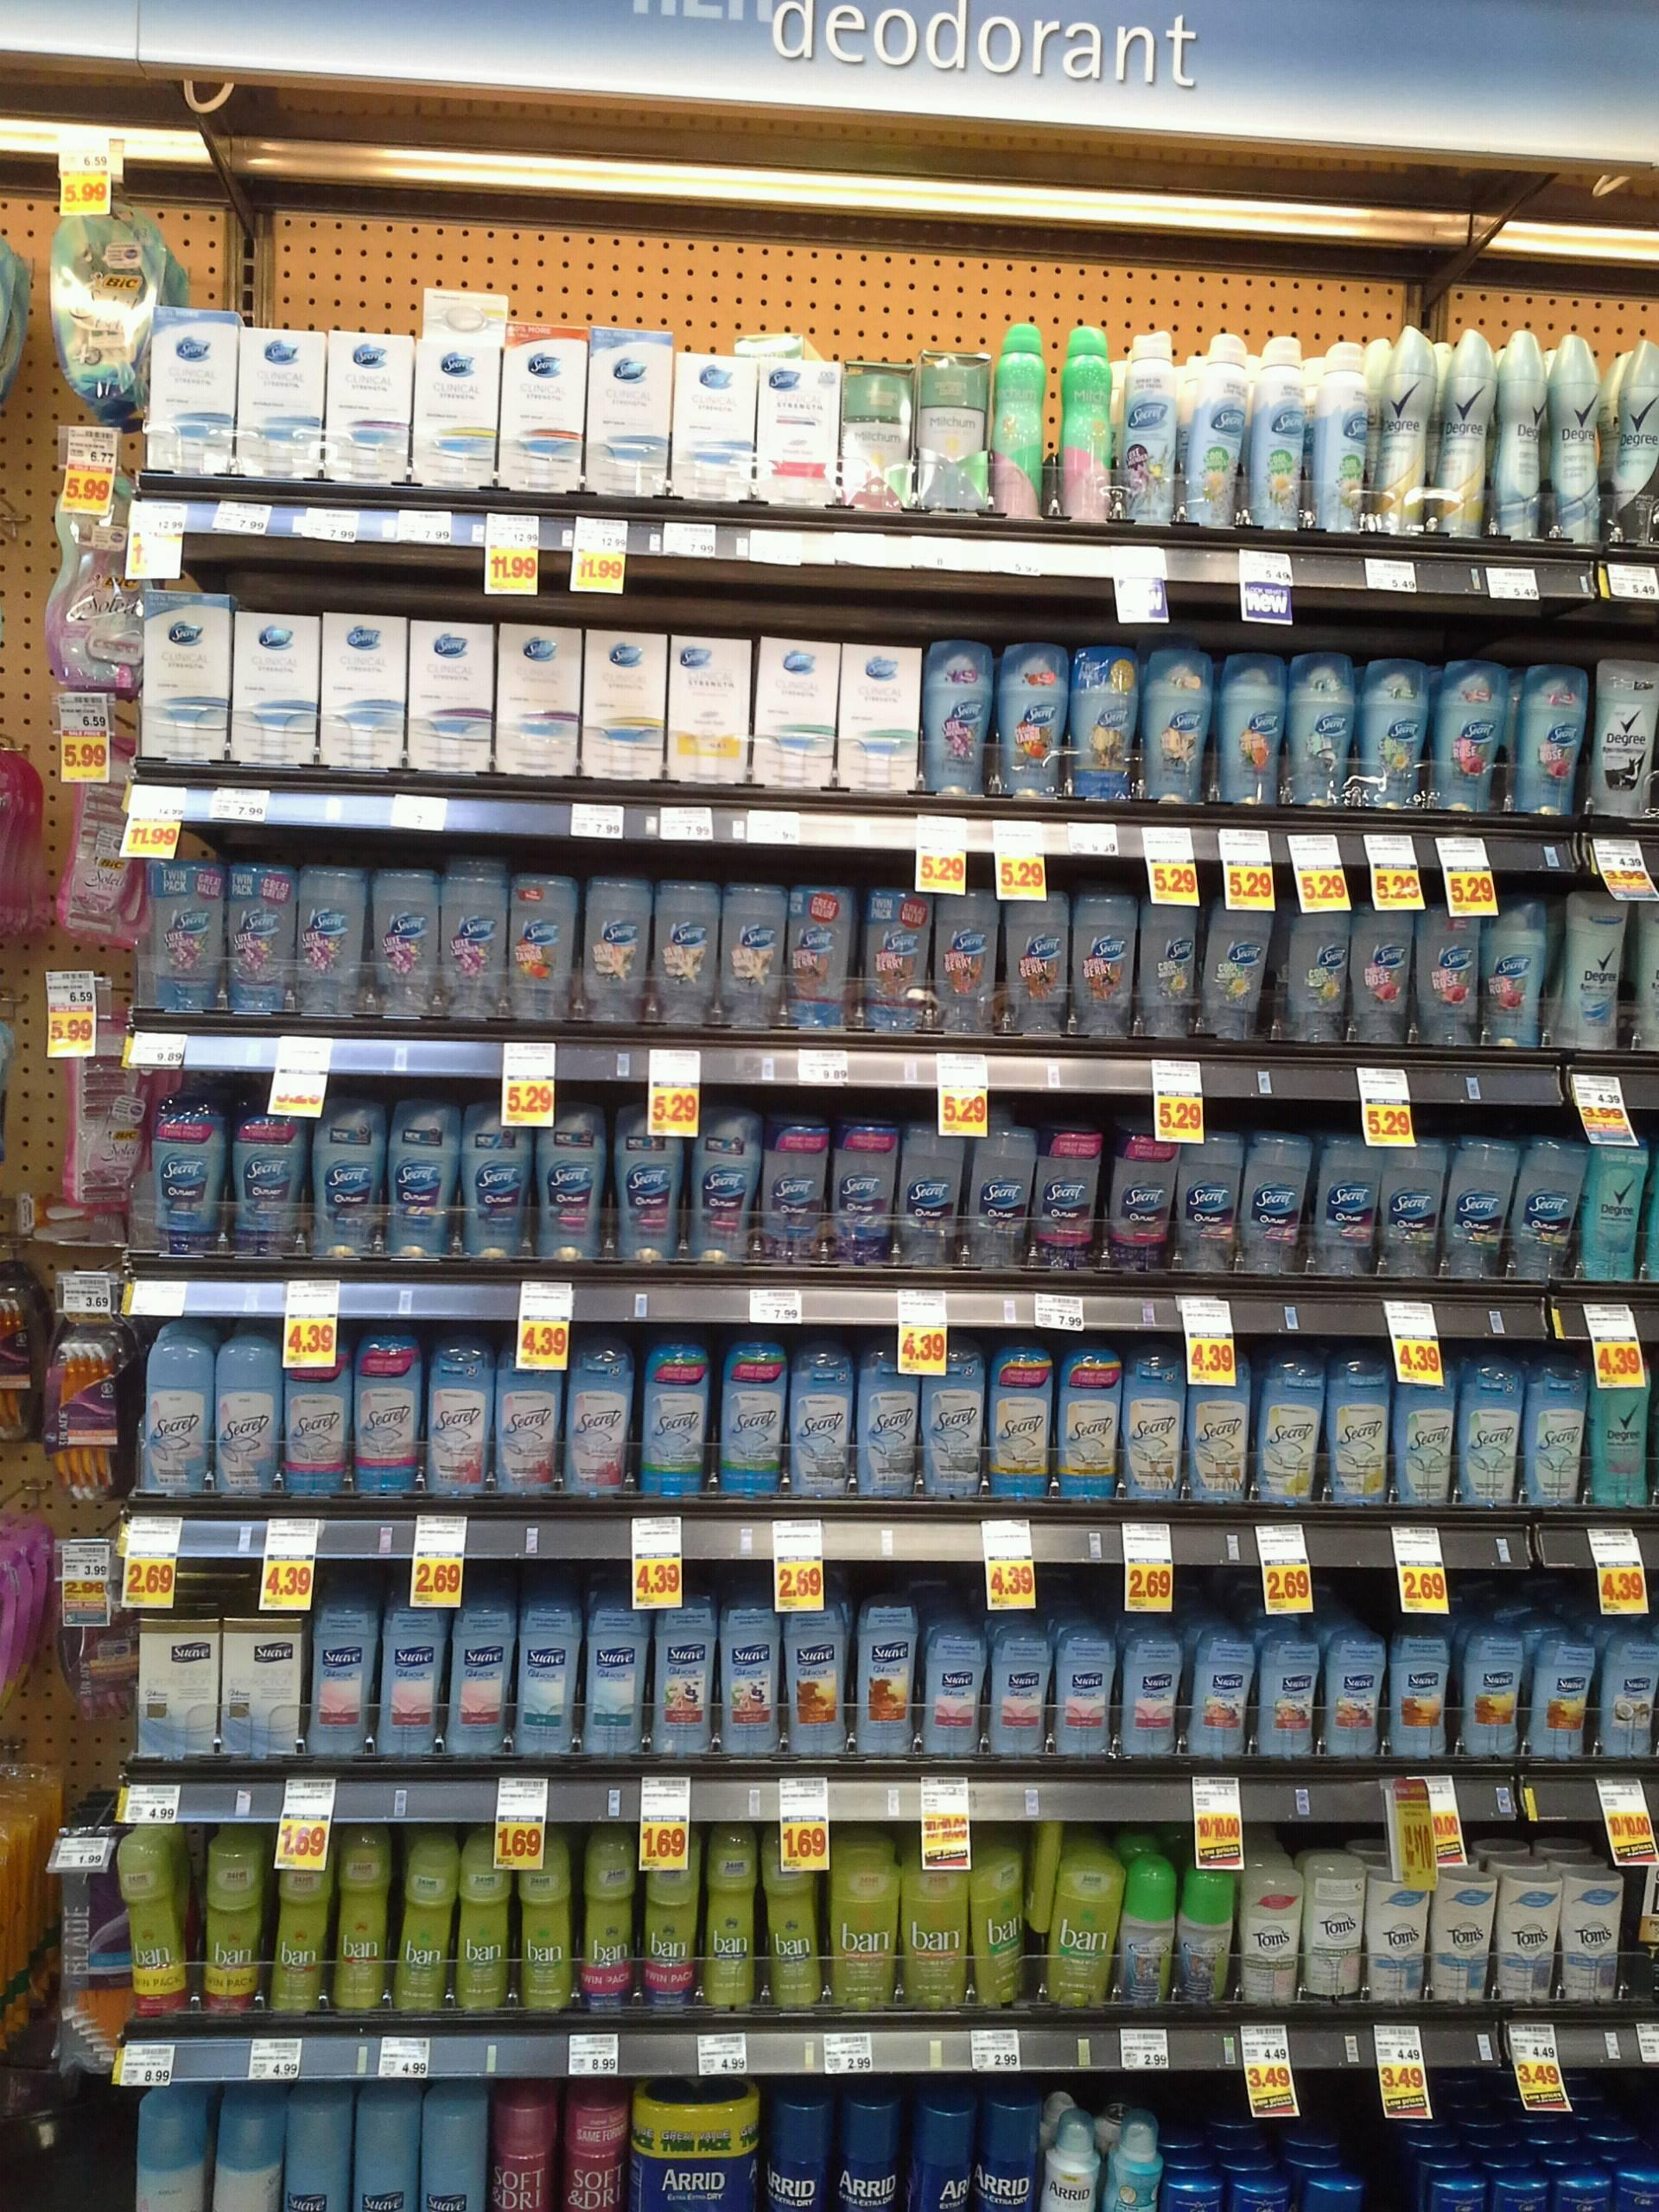misalignment: (967, 1851, 1021, 2003), (1021, 1817, 1061, 1935)
